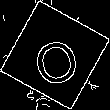O_N: (27, 24, 83, 86)
